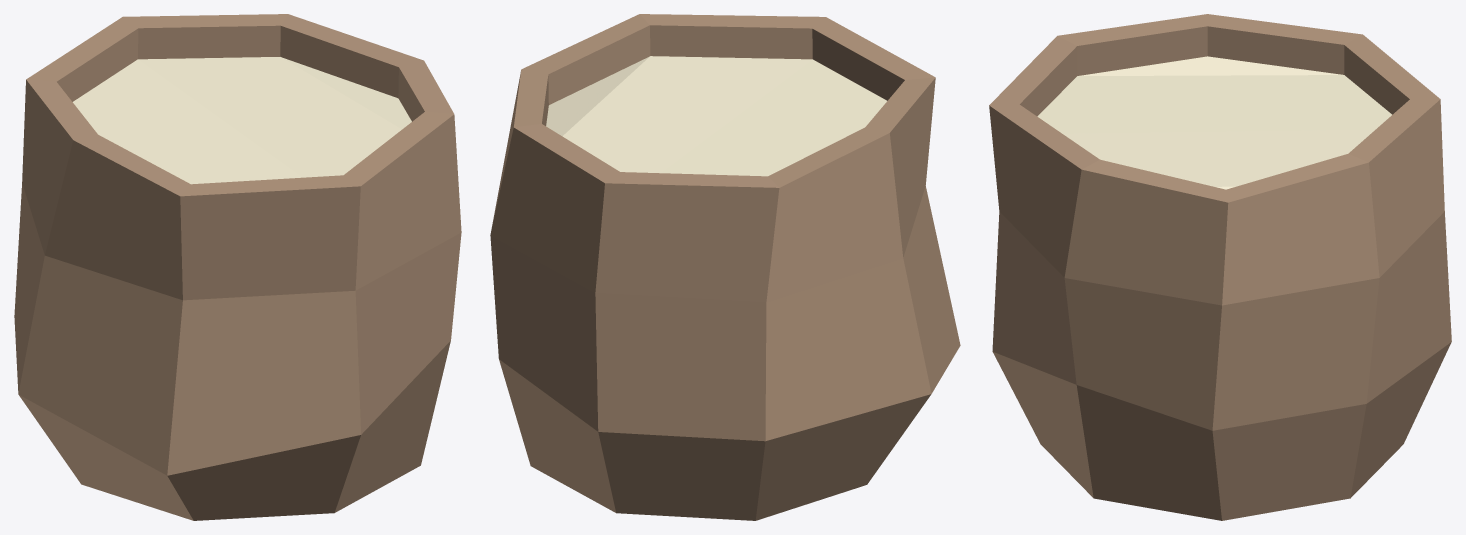
The model's file is sslpode.fbx.
3 renders of one model, left to right at view 1: azimuth 30°, elevation 25°; view 2: azimuth 150°, elevation 25°; view 3: azimuth 270°, elevation 25°, orthographic. The views are drawn at different scales.
Visible parts, largest first — view 1: Cylinder, Cylinder.001; view 2: Cylinder, Cylinder.001; view 3: Cylinder, Cylinder.001.
Part boxes in pixels (x1,y1,x2,y2): Cylinder: [14, 14, 461, 520]; Cylinder.001: [73, 57, 411, 184]; Cylinder: [490, 14, 960, 520]; Cylinder.001: [546, 56, 886, 176]; Cylinder: [989, 14, 1451, 520]; Cylinder.001: [1037, 56, 1391, 189].
Size of the model in its own units: 260 by 208 by 252.
